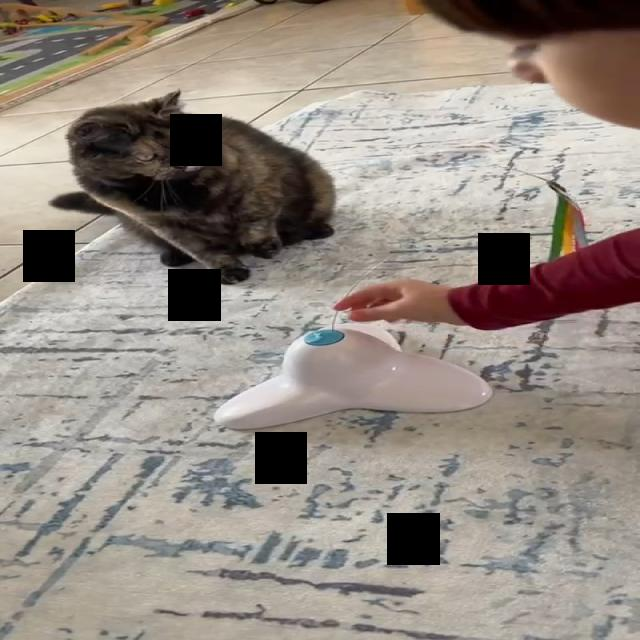authorized: (48, 88, 336, 284)
